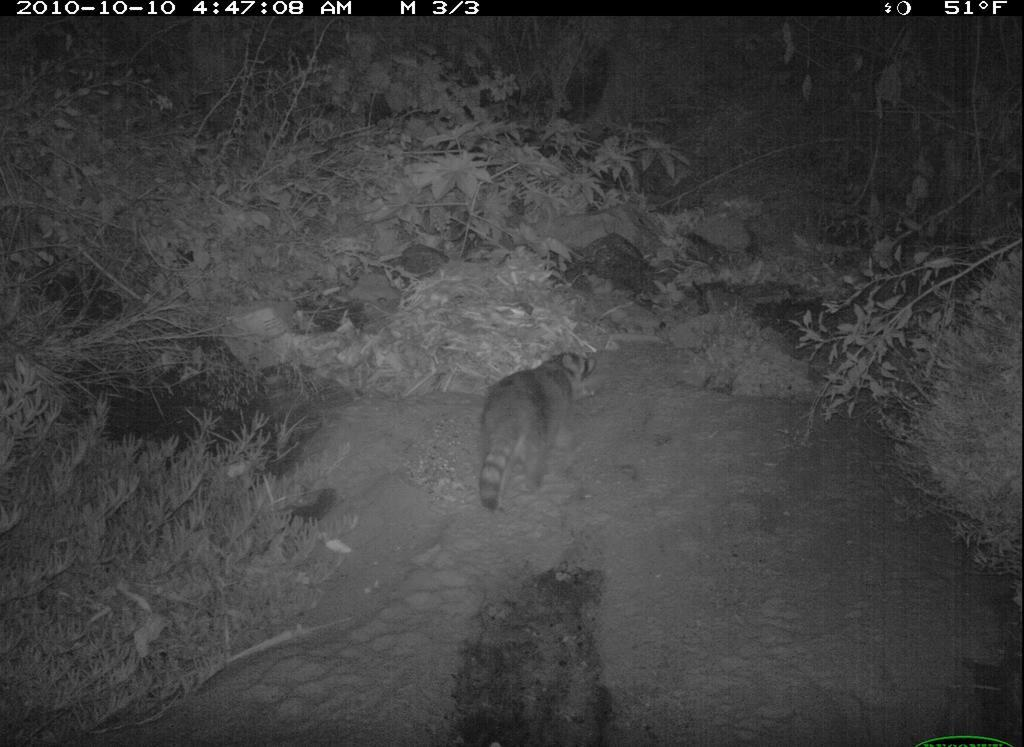raccoon: (472, 347, 605, 520)
